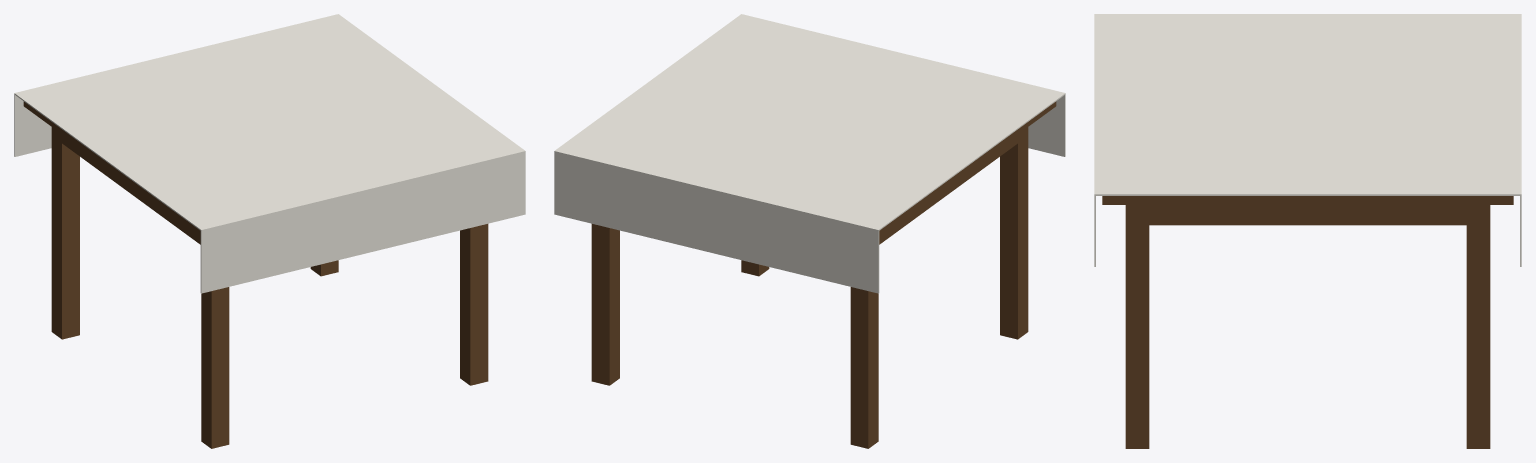
3 views of the same model, side by side, from view 1: azimuth 30°, elevation 25°; view 2: azimuth 150°, elevation 25°; view 3: azimuth 270°, elevation 25° (orthographic). The views are drawn at different scales.
Visible parts, largest first — view 1: parametric-variant-table-1st-pub-ef7be4e89650004aed5f; view 2: parametric-variant-table-1st-pub-ef7be4e89650004aed5f; view 3: parametric-variant-table-1st-pub-ef7be4e89650004aed5f.
Boxes of the visible parts, x1,y1,x2,y2 form: parametric-variant-table-1st-pub-ef7be4e89650004aed5f: (14,14,525,448); parametric-variant-table-1st-pub-ef7be4e89650004aed5f: (554,14,1065,448); parametric-variant-table-1st-pub-ef7be4e89650004aed5f: (1094,14,1521,448).
Bounding box in the file's own units: 1.09 × 0.754 × 1.09.
